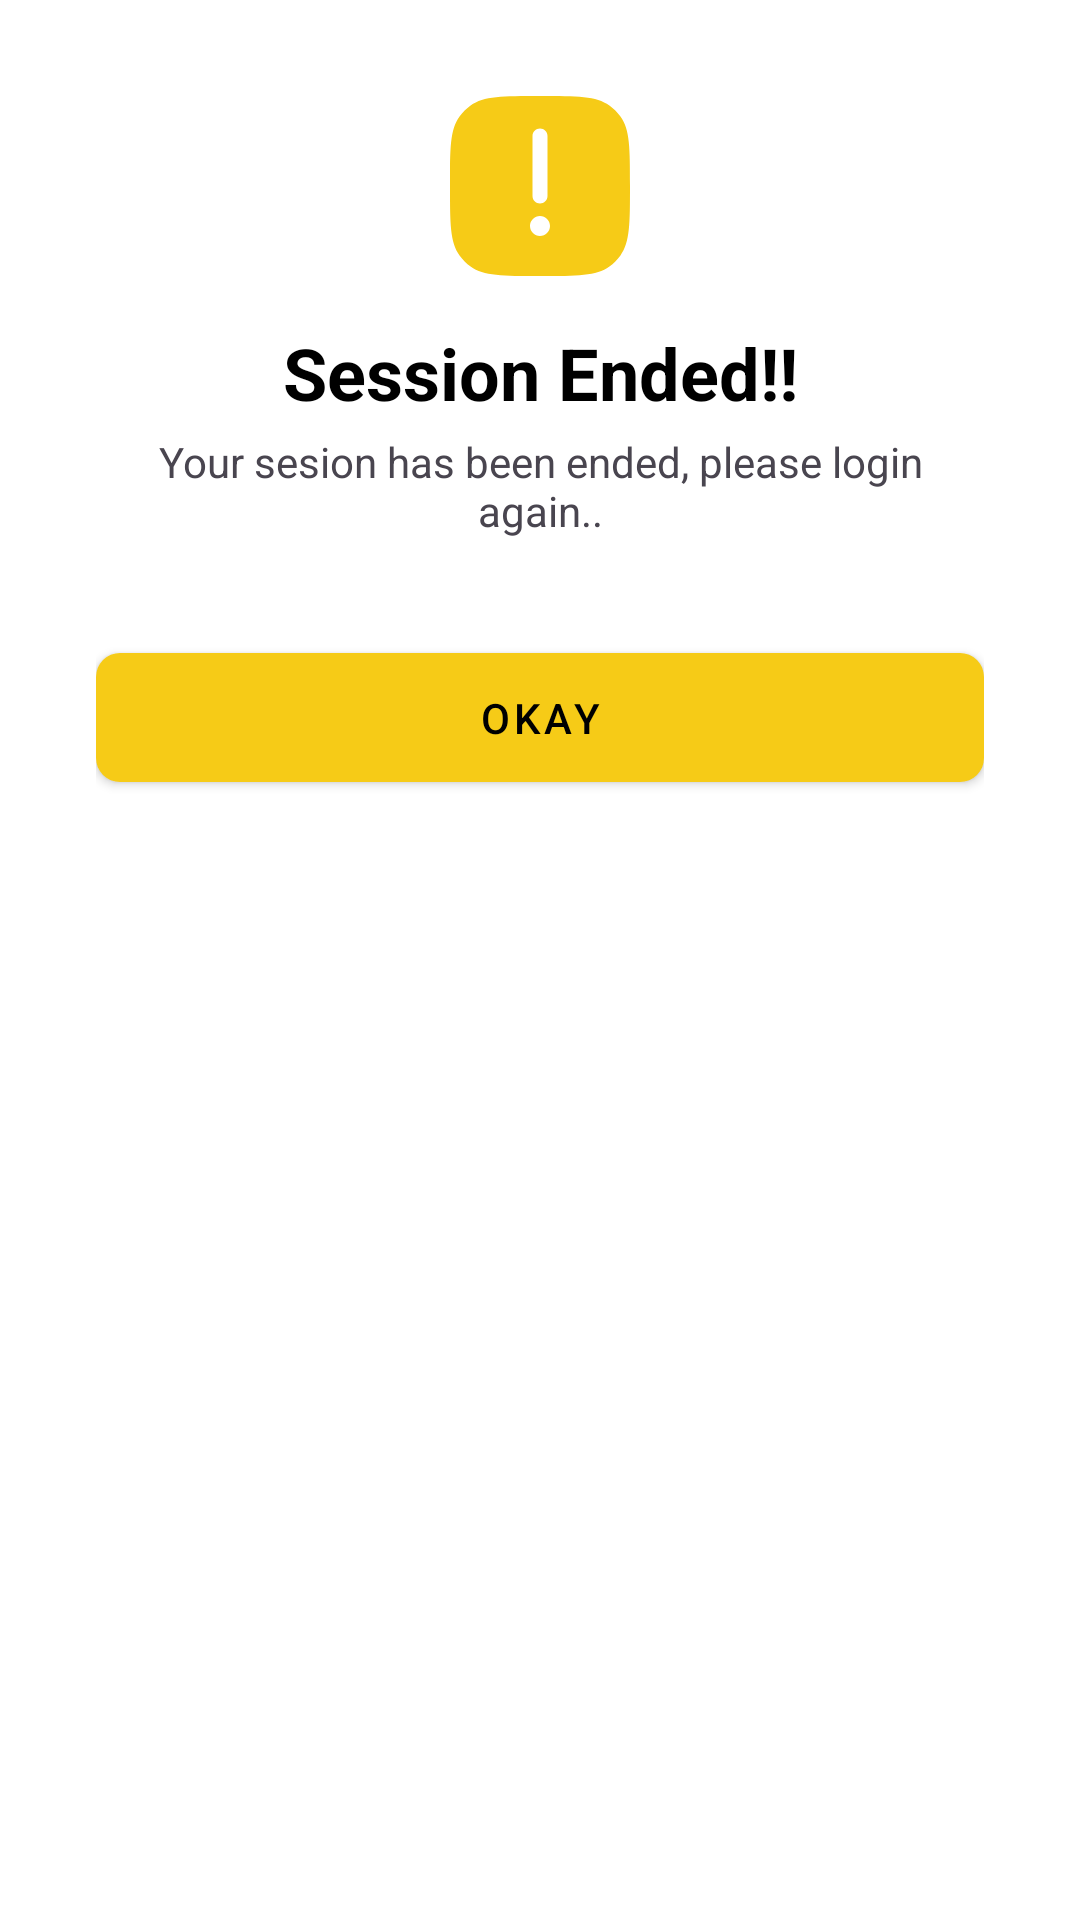

Screen size 1080px x 1920px. Icon name, then its center in pixels as [x,y]:
warning info: [540,186]
